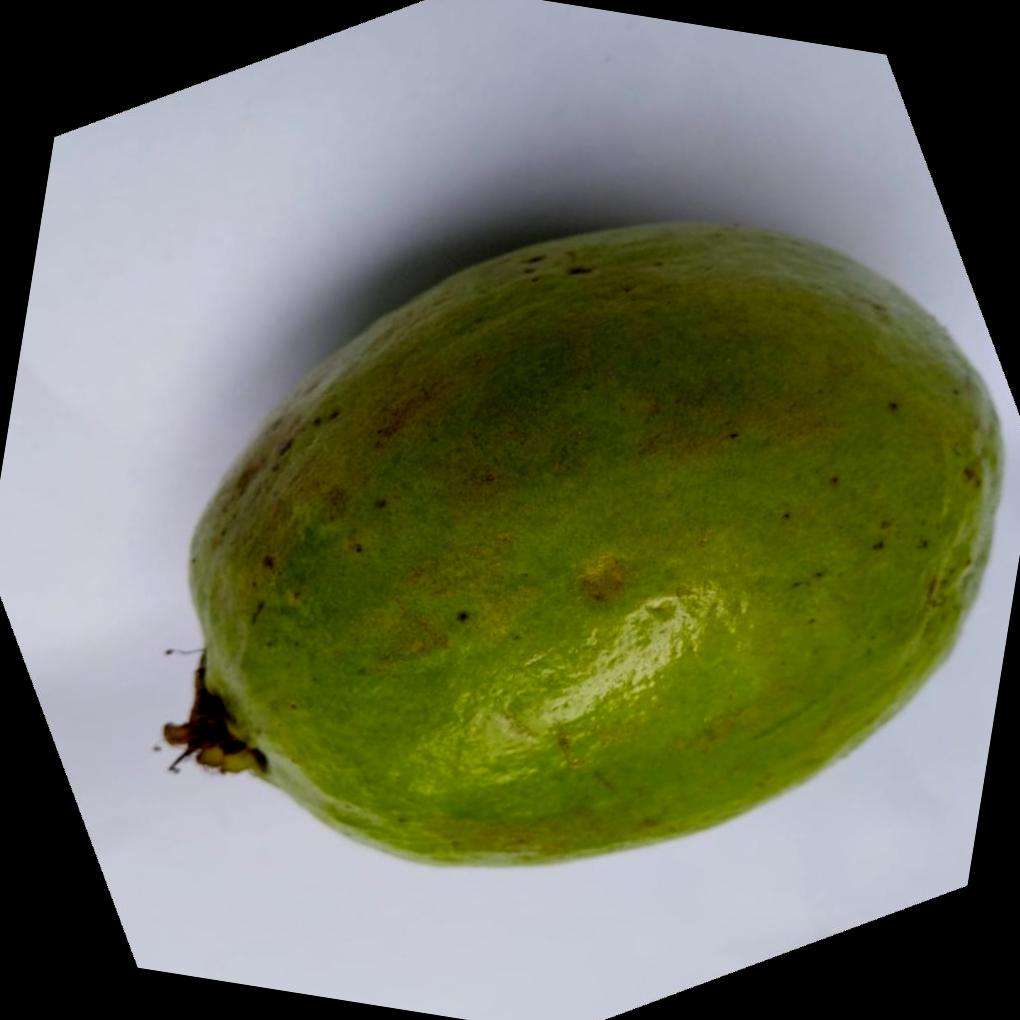FreshGuava: (162, 212, 1005, 866)
